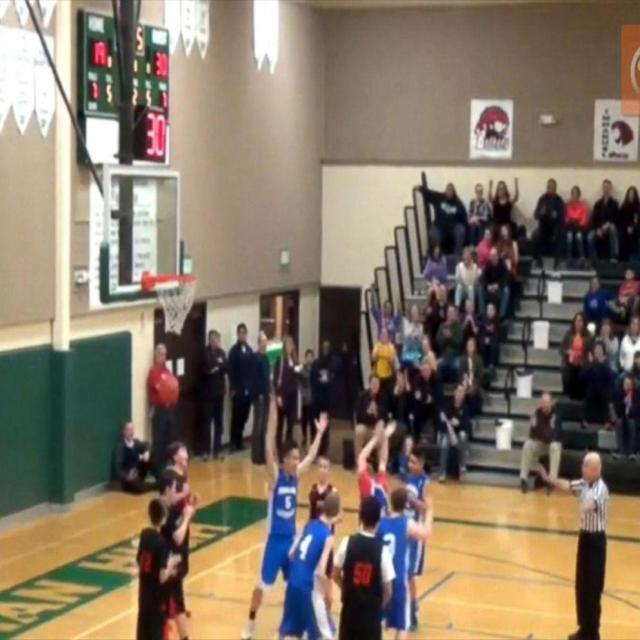Basketball: (160, 372, 178, 406)
hoop: (152, 274, 196, 336)
